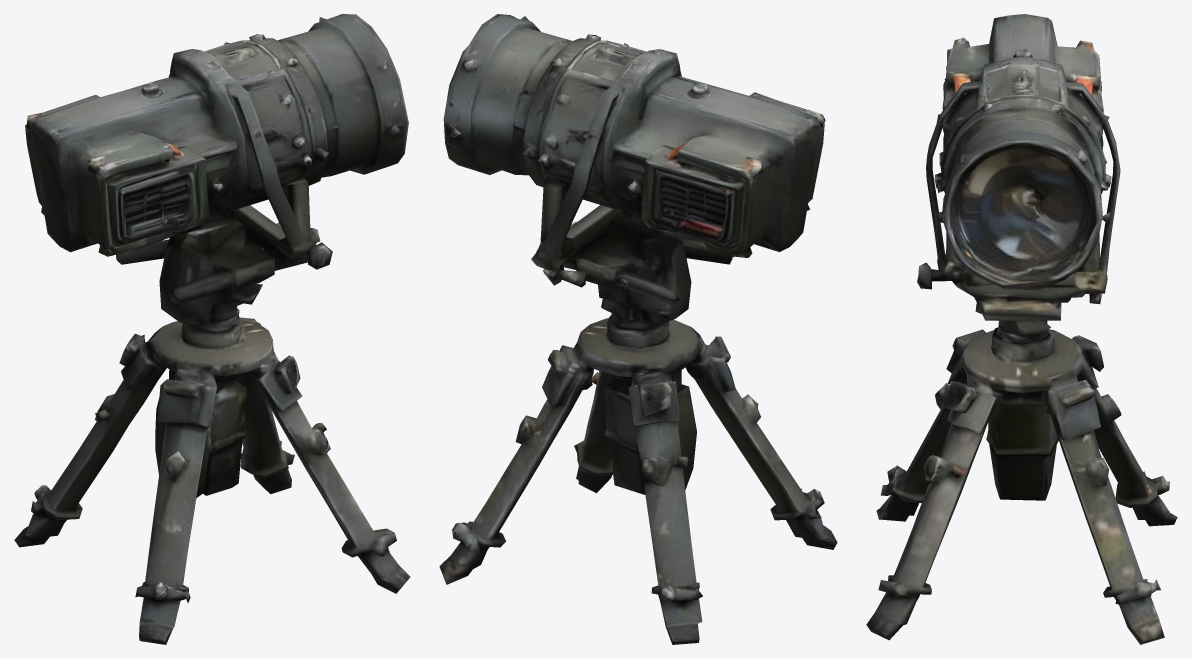
The model's file is xd_searchlight.glb.
3 renders of one model, left to right at view 1: azimuth 30°, elevation 25°; view 2: azimuth 150°, elevation 25°; view 3: azimuth 270°, elevation 25°, orthographic.
Visible parts, largest first — view 1: tripo_node_7f20ffe9-bac7-481e-ba53-aed108cabbb1; view 2: tripo_node_7f20ffe9-bac7-481e-ba53-aed108cabbb1; view 3: tripo_node_7f20ffe9-bac7-481e-ba53-aed108cabbb1.
Part boxes in pixels (x1=…): tripo_node_7f20ffe9-bac7-481e-ba53-aed108cabbb1: x1=14, y1=14, x2=410, y2=644; tripo_node_7f20ffe9-bac7-481e-ba53-aed108cabbb1: x1=439, y1=14, x2=837, y2=644; tripo_node_7f20ffe9-bac7-481e-ba53-aed108cabbb1: x1=866, y1=14, x2=1177, y2=644.
Bounding box in the file's own units: 0.6814 × 1 × 0.5498.
Materials: 1 (1 with a texture image).
